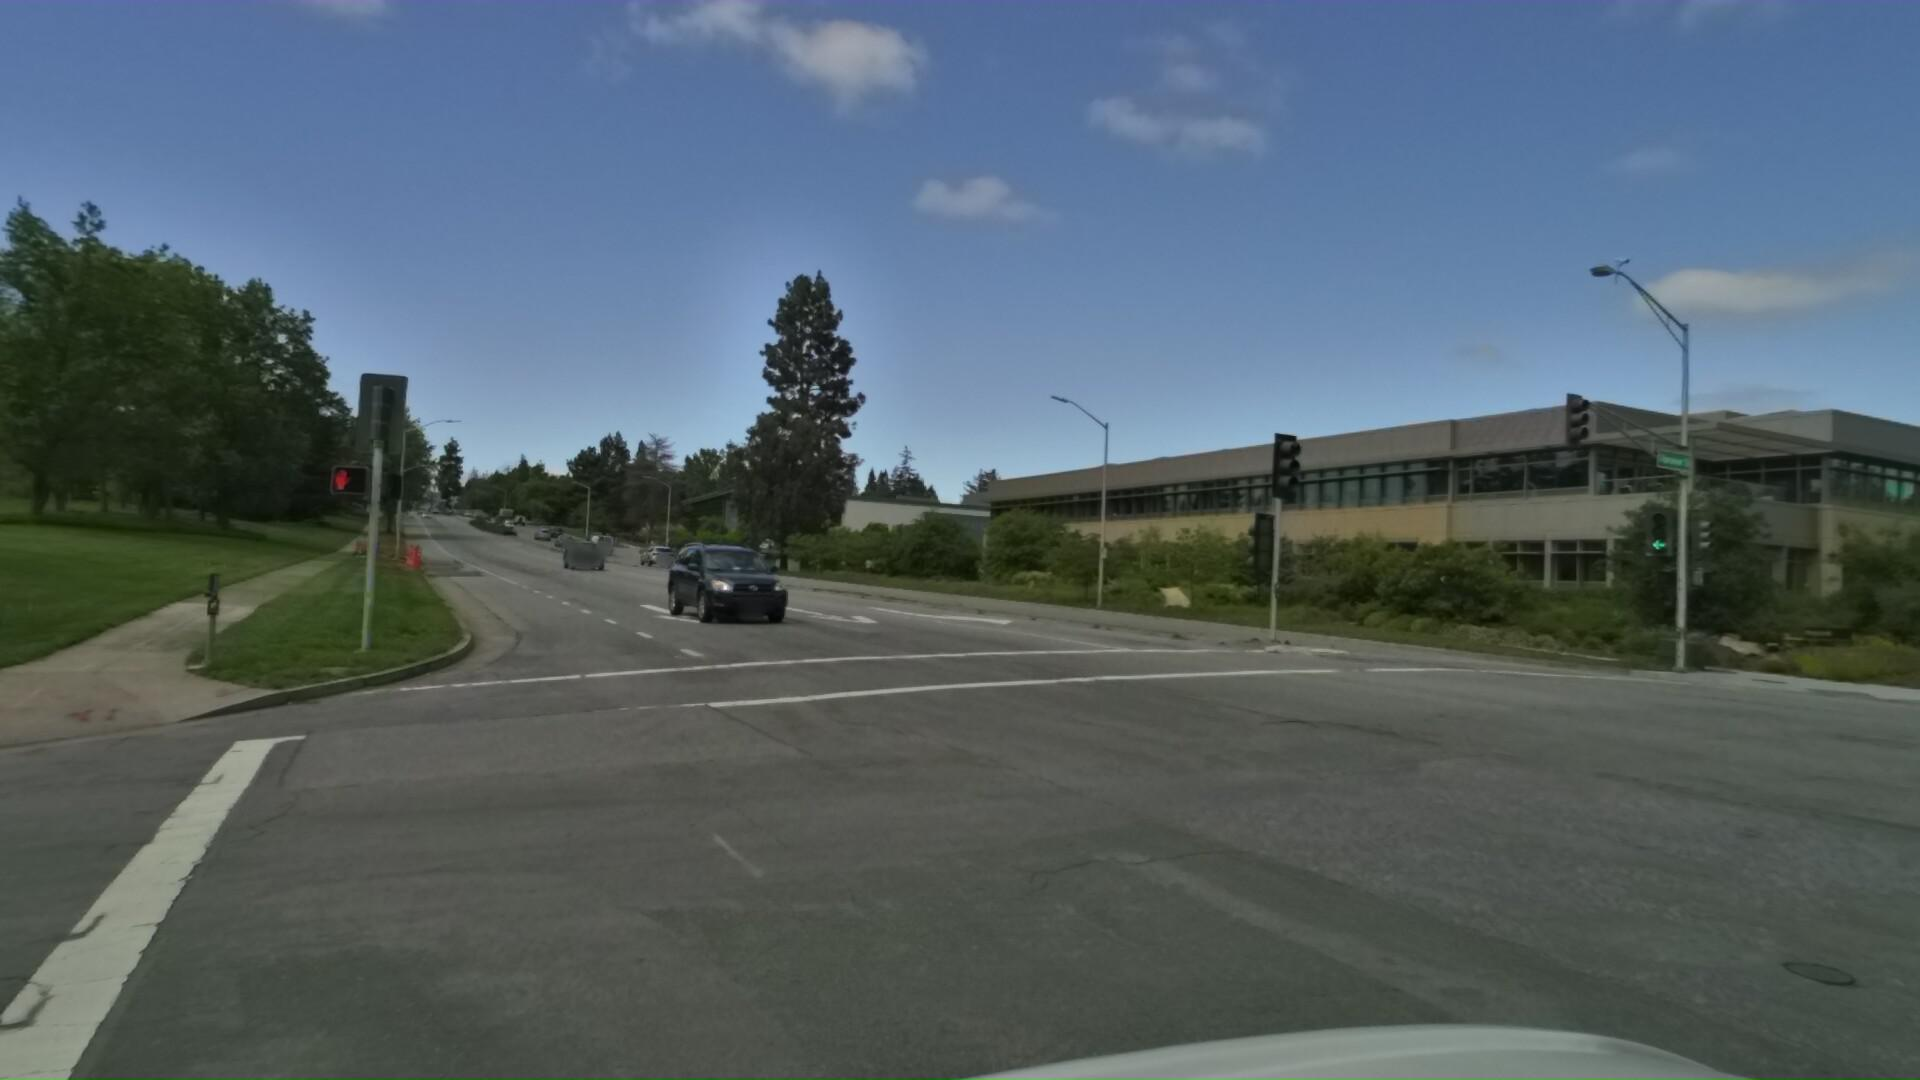car: (651, 535, 798, 622), (559, 537, 611, 566), (636, 541, 673, 564), (694, 550, 731, 568)
